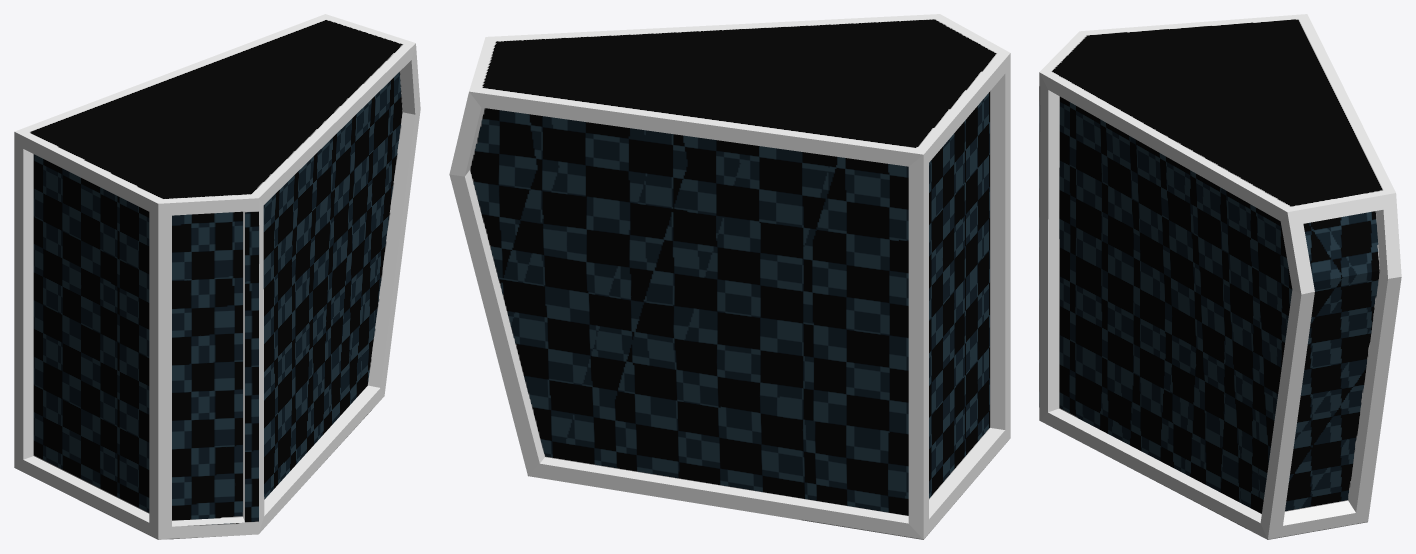
Rendered from block6_b1_MESH.fbx.
The picture shows the model from 3 angles, left to right: view 1: azimuth 30°, elevation 25°; view 2: azimuth 150°, elevation 25°; view 3: azimuth 270°, elevation 25°; orthographic projection. The views are drawn at different scales.
Parts seen in each view (by area): view 1: block6_b1_MESH; view 2: block6_b1_MESH; view 3: block6_b1_MESH.
Boxes of the visible parts, bbox=[...] form: block6_b1_MESH: bbox=[14, 14, 420, 539]; block6_b1_MESH: bbox=[449, 14, 1010, 539]; block6_b1_MESH: bbox=[1039, 14, 1401, 539].
Bounding box in the file's own units: 2860 × 2147 × 2278.
